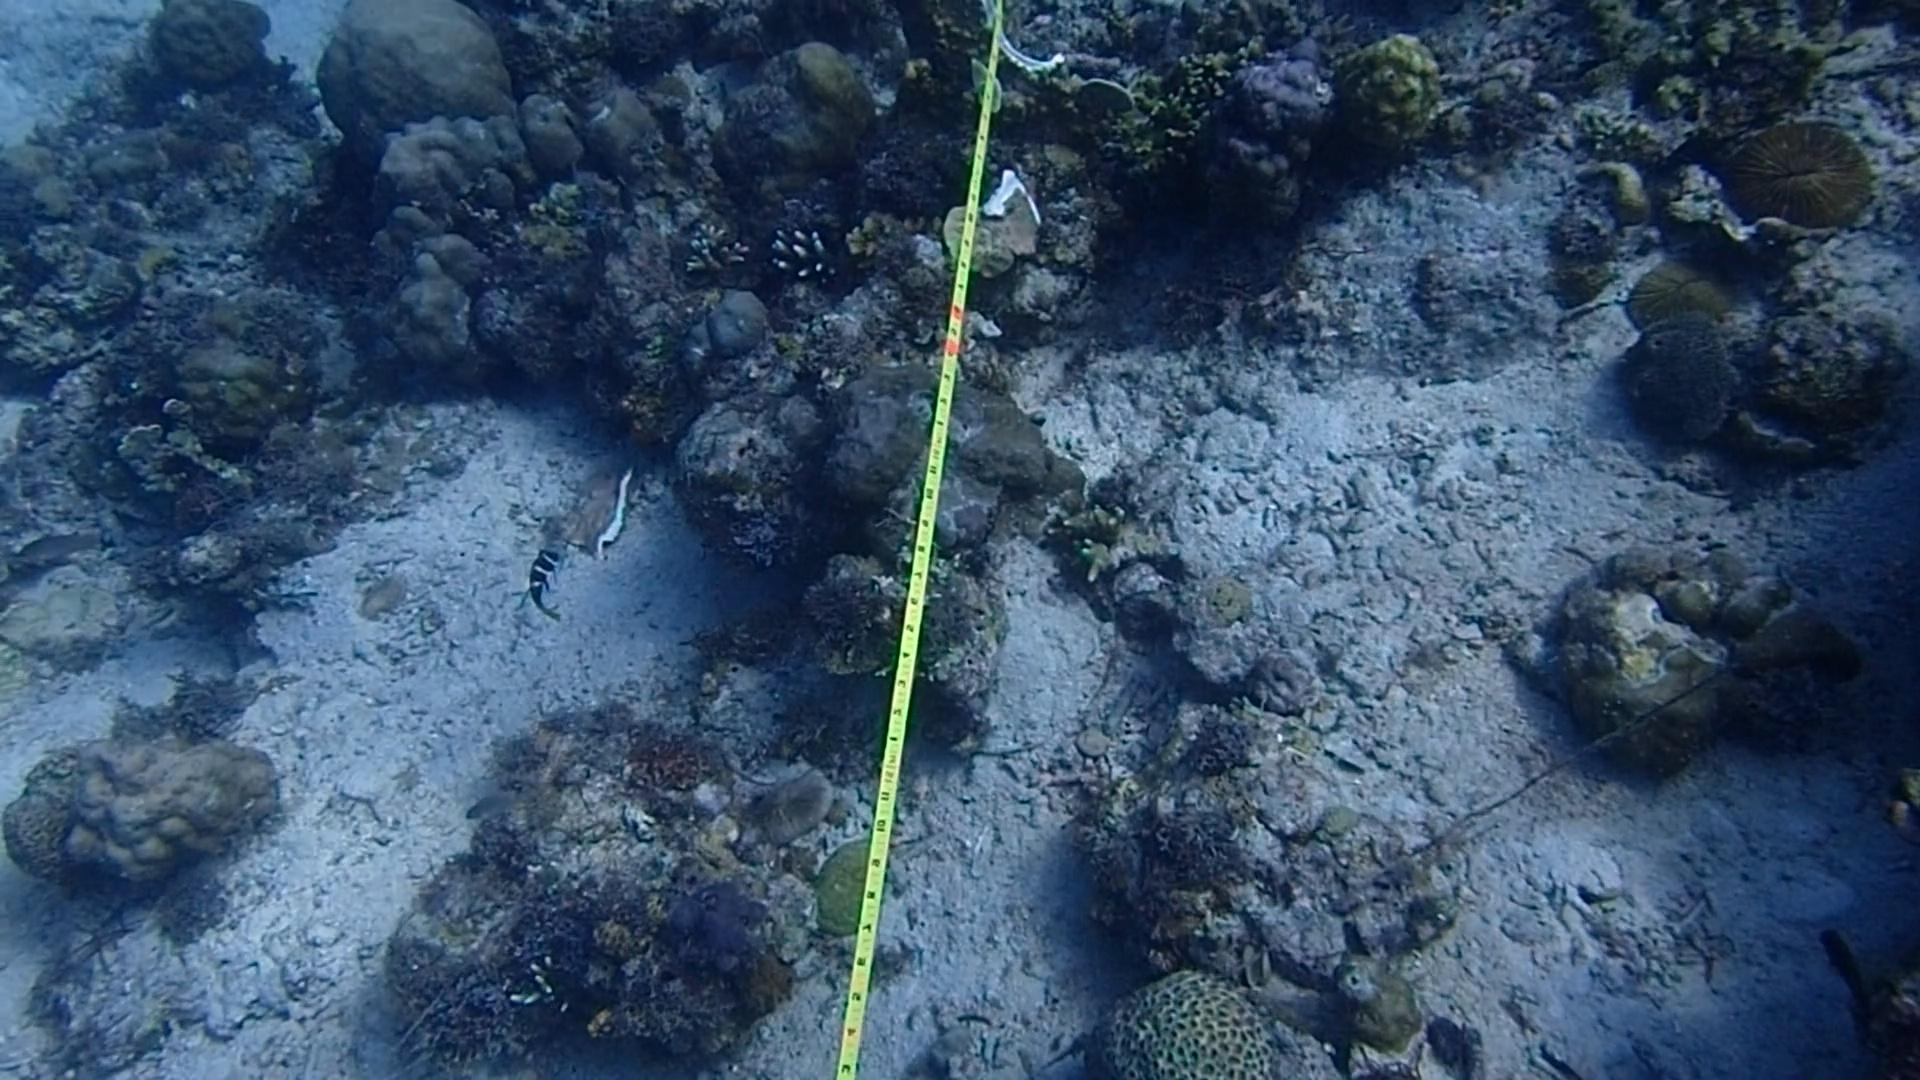Striped Fish: (510, 518, 582, 616)
